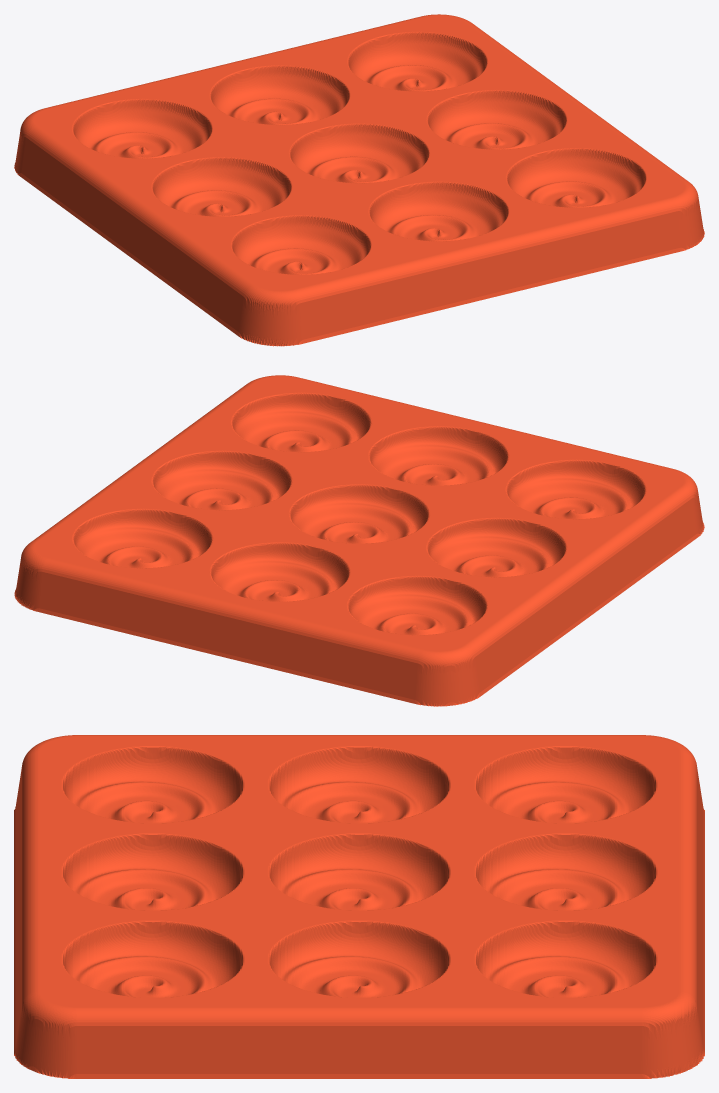
Rendered from mold.glb.
3 views of the same model, one above another, from view 1: azimuth 30°, elevation 25°; view 2: azimuth 150°, elevation 25°; view 3: azimuth 270°, elevation 25° (orthographic). The views are drawn at different scales.
Parts seen in each view (by area): view 1: geometry_0; view 2: geometry_0; view 3: geometry_0.
Boxes of the visible parts, x1=… form: geometry_0: x1=14, y1=14, x2=704, y2=346; geometry_0: x1=14, y1=375, x2=704, y2=706; geometry_0: x1=14, y1=735, x2=704, y2=1078.
Bounding box in the file's own units: 0.0984 × 0.00958 × 0.0984.
